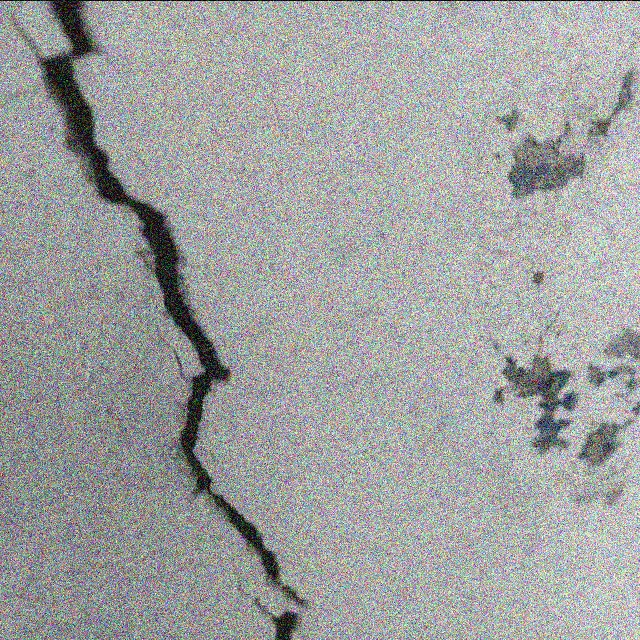SurfaceCrack: (0, 1, 356, 640)
